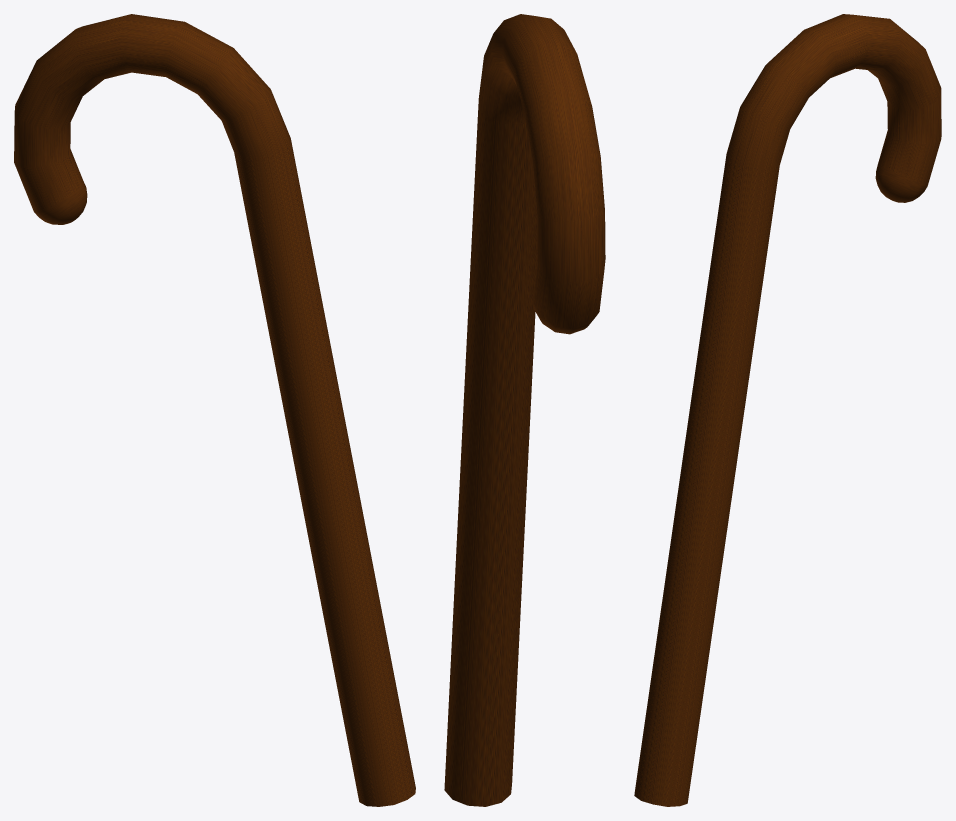
File: kitchen-Material.obj
The picture shows the model from 3 angles, left to right: view 1: azimuth 30°, elevation 25°; view 2: azimuth 150°, elevation 25°; view 3: azimuth 270°, elevation 25°; orthographic projection. The views are drawn at different scales.
Parts seen in each view (by area): view 1: umbrellastand_Cylinder.021; view 2: umbrellastand_Cylinder.021; view 3: umbrellastand_Cylinder.021.
Boxes of the visible parts, x1,y1,x2,y2 form: umbrellastand_Cylinder.021: [14, 14, 415, 806]; umbrellastand_Cylinder.021: [444, 14, 605, 806]; umbrellastand_Cylinder.021: [634, 14, 941, 806].
Size of the model in its own units: 0.636 by 1.74 by 0.68.
Materials: 1 (1 with a texture image).
